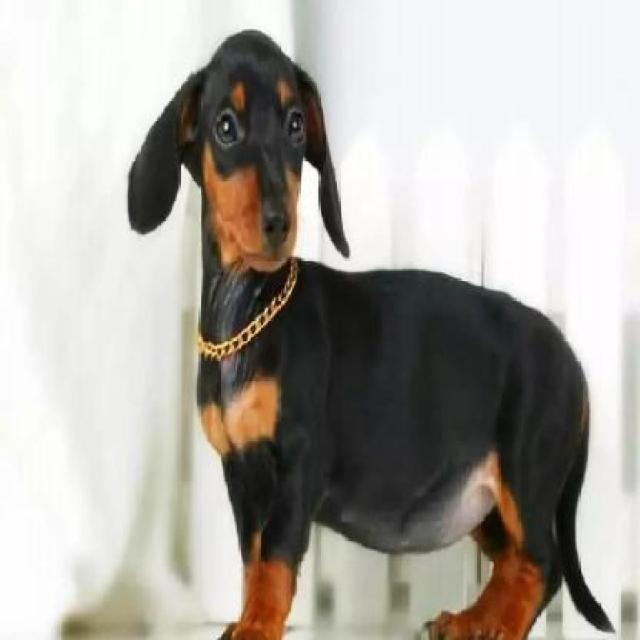Dog: (124, 20, 622, 638)
